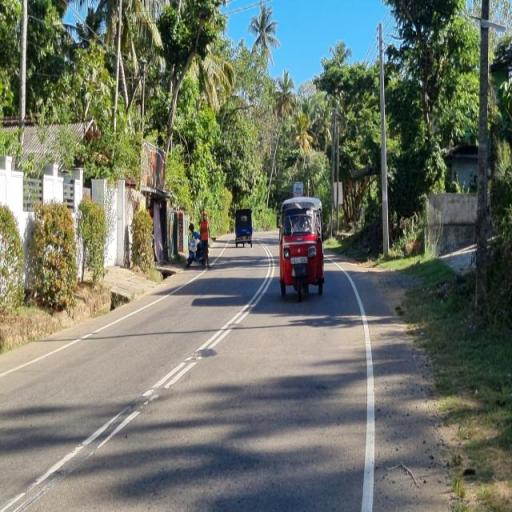double_white_line: (142, 242, 274, 402)
